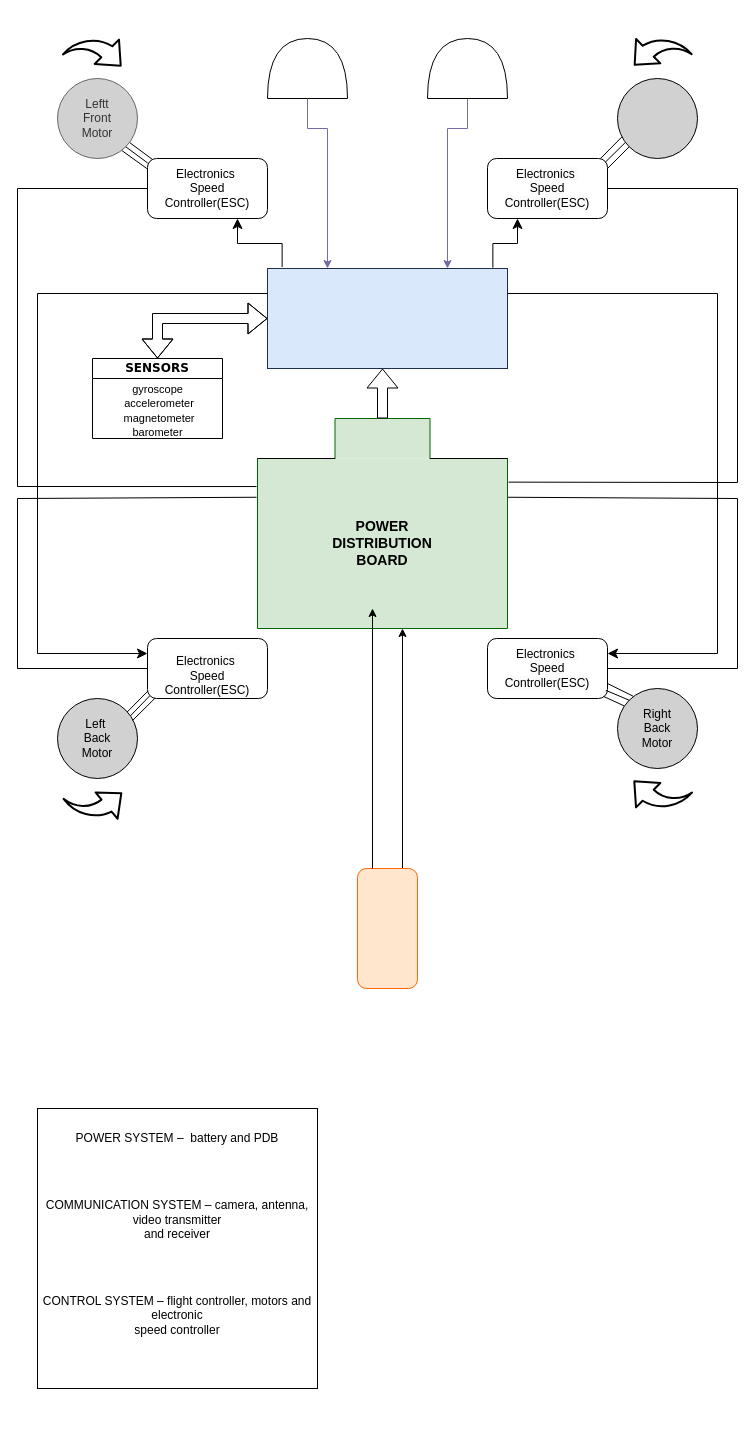
This 756x1439 diagram has some shape labels left out. The shapes that lost their labels are listed below. From the top down, each one's centre as x and y in pixels, then its label:
At point (657, 118): "Right Front Motor".
At point (387, 318): "FLIGHT CONTROLLER".
At point (387, 928): "LiPo Battery".
